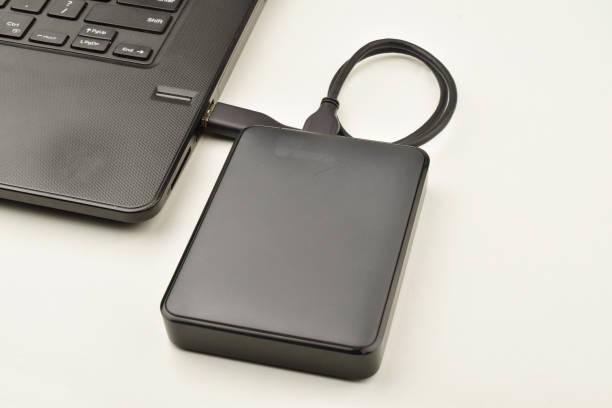HDD: (160, 126, 431, 383)
